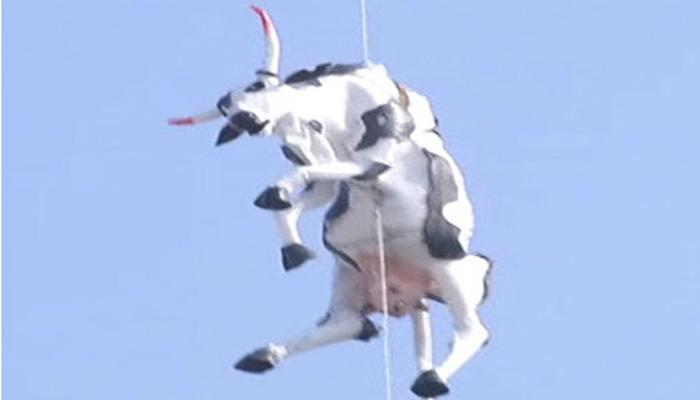cow: (217, 63, 488, 396)
